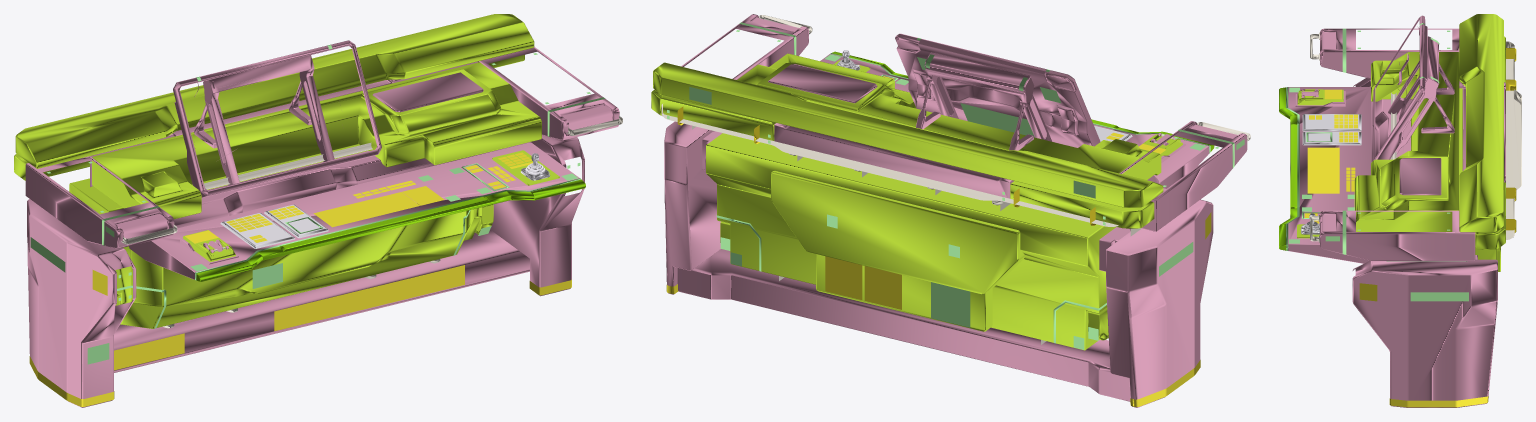
File: console_desk_2_single-screen_no-screen_a.glb
3 views of the same model, side by side, from view 1: azimuth 30°, elevation 25°; view 2: azimuth 150°, elevation 25°; view 3: azimuth 270°, elevation 25° (orthographic). The views are drawn at different scales.
Bounding box in the file's own units: 2.5 × 1.35 × 1.25.
